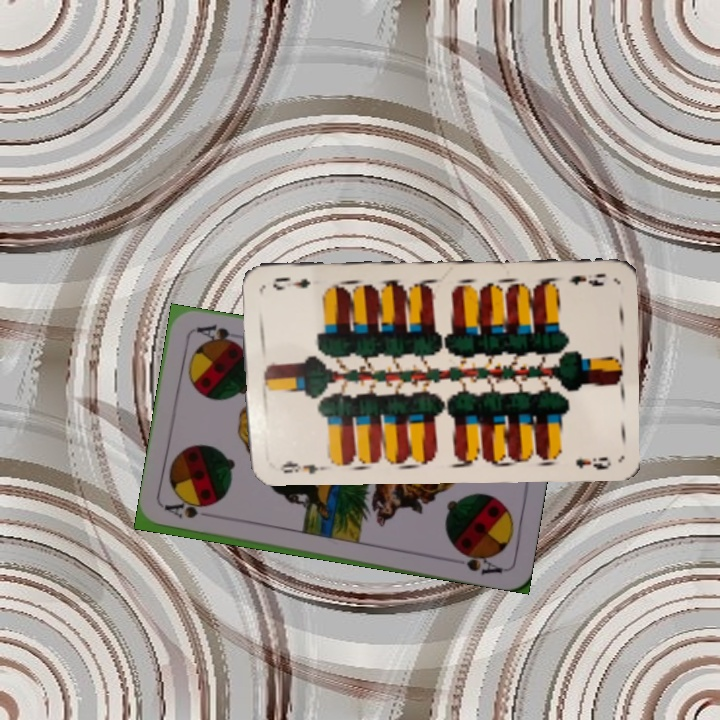E9: (276, 456, 326, 476), (564, 269, 608, 289)
SA: (162, 500, 221, 521)
